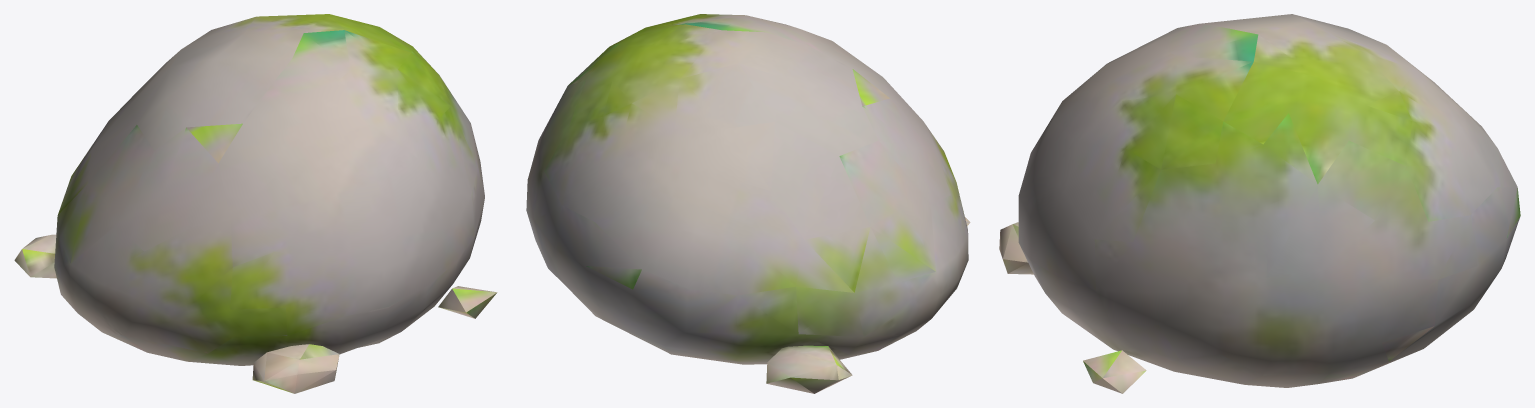
Rendered from roca_rio_1_400.glb.
3 renders of one model, left to right at view 1: azimuth 30°, elevation 25°; view 2: azimuth 150°, elevation 25°; view 3: azimuth 270°, elevation 25°, orthographic. The views are drawn at different scales.
Parts seen in each view (by area): view 1: roca_rio_1_malla; view 2: roca_rio_1_malla; view 3: roca_rio_1_malla.
Part boxes in pixels (x1,y1,x2,y2): roca_rio_1_malla: (14, 14, 497, 393); roca_rio_1_malla: (526, 14, 970, 393); roca_rio_1_malla: (999, 14, 1520, 393).
Size of the model in its own units: 0.293 by 0.2105 by 0.2977.
Materials: 1 (1 with a texture image).
